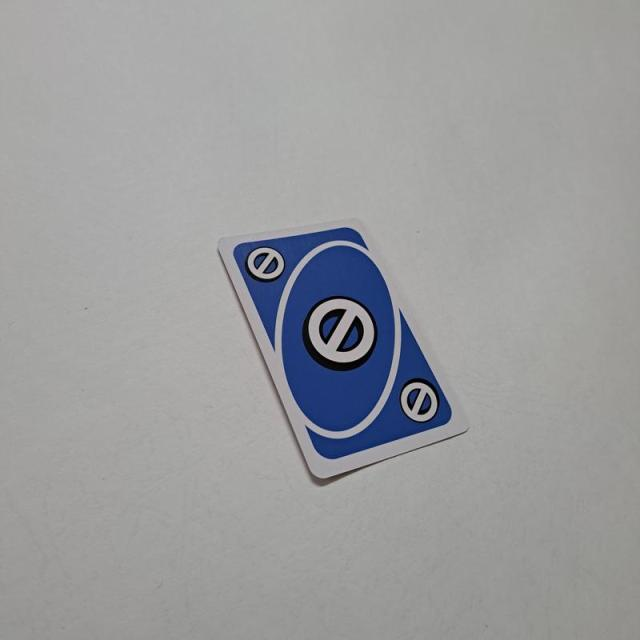Blue_Card: (231, 219, 456, 464)
Skip: (243, 243, 289, 283)
